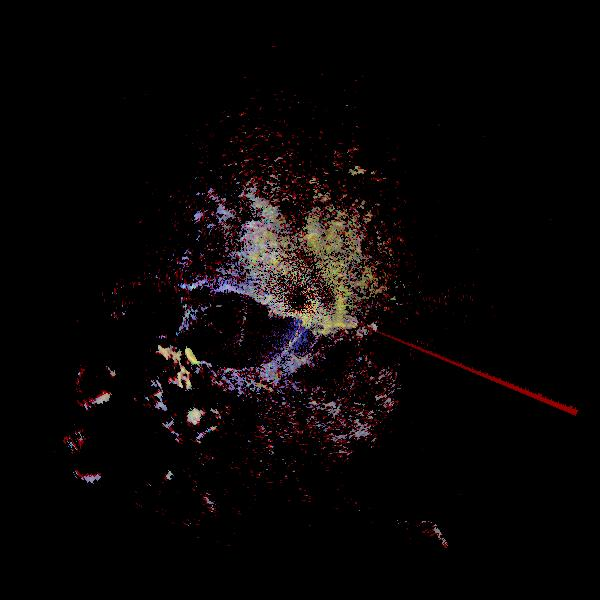roost: (111, 320, 225, 434), (52, 337, 145, 430)
